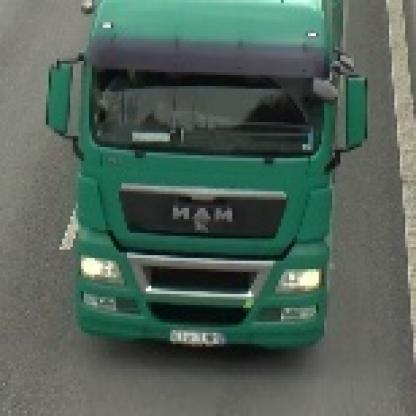truck: (45, 1, 369, 353)
